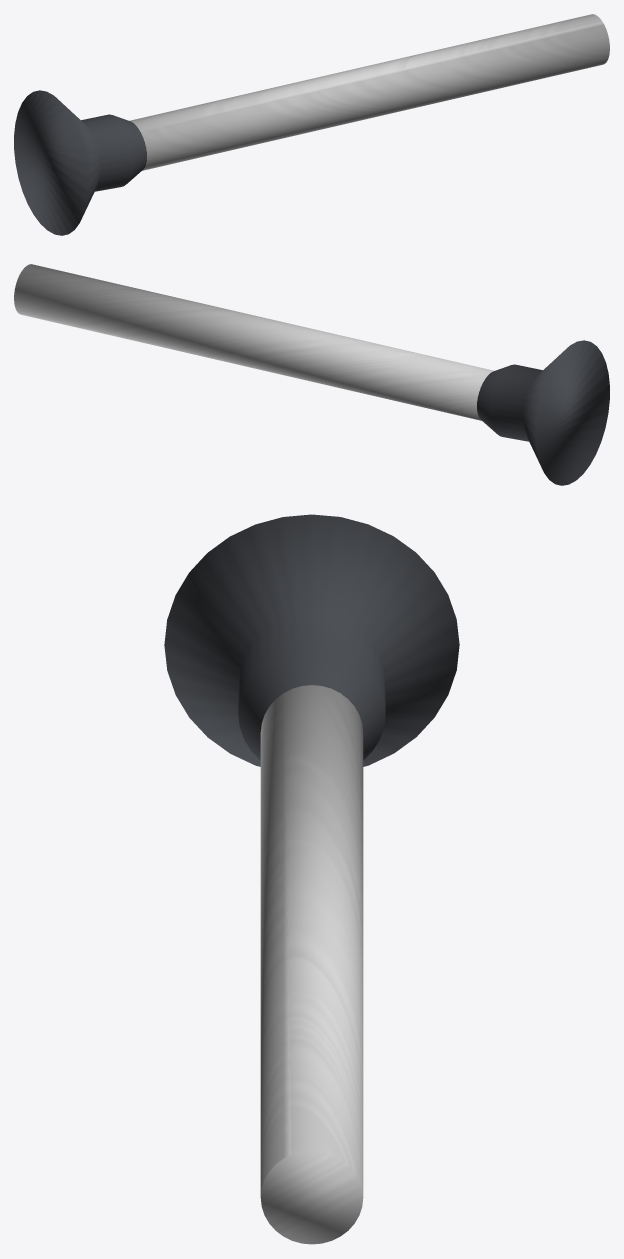
Rendered from plunger.obj.
3 views of the same model, one above another, from view 1: azimuth 30°, elevation 25°; view 2: azimuth 150°, elevation 25°; view 3: azimuth 270°, elevation 25° (orthographic). The views are drawn at different scales.
Parts seen in each view (by area): view 1: Cylinder, Cone; view 2: Cylinder, Cone; view 3: Cylinder, Cone.
Boxes of the visible parts, x1,y1,x2,y2 form: Cylinder: (129,14,609,170); Cone: (14,90,146,235); Cylinder: (14,264,494,420); Cone: (477,340,609,485); Cylinder: (260,685,363,1244); Cone: (164,514,459,766).
Size of the model in its own units: 8.6 by 2 by 2.
